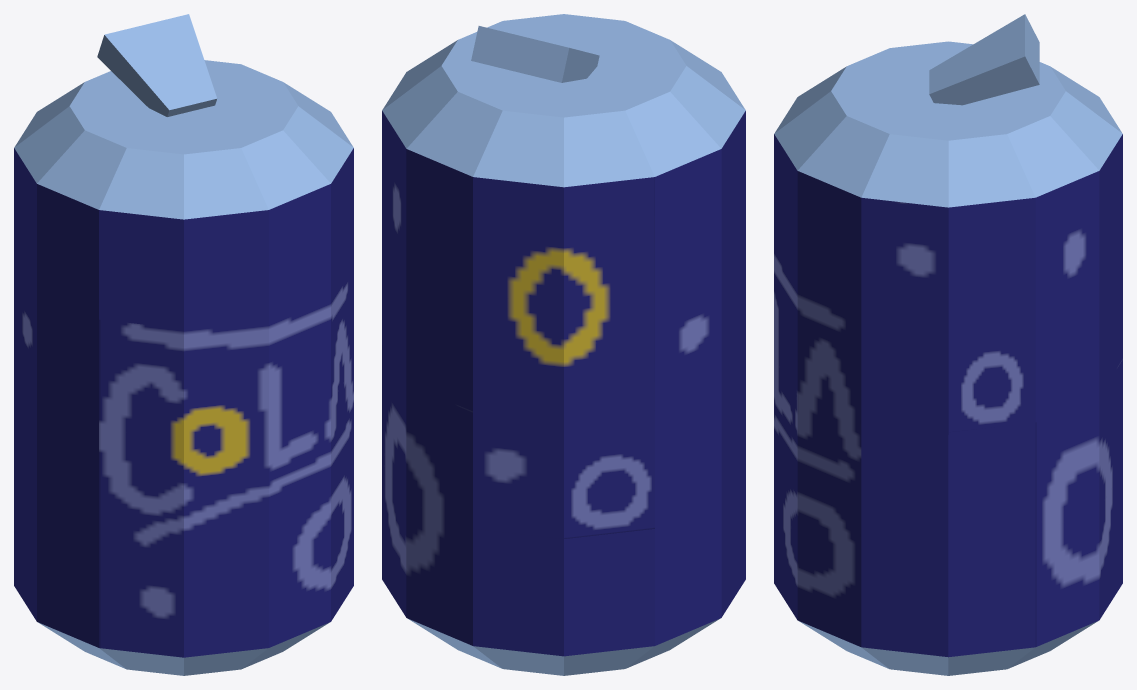
The model's file is Soda.fbx.
3 renders of one model, left to right at view 1: azimuth 30°, elevation 25°; view 2: azimuth 150°, elevation 25°; view 3: azimuth 270°, elevation 25°, orthographic. The views are drawn at different scales.
Visible parts, largest first — view 1: Soda; view 2: Soda; view 3: Soda.
Boxes of the visible parts, x1,y1,x2,y2 form: Soda: (14,14,353,675); Soda: (382,14,745,675); Soda: (774,14,1122,675).
Size of the model in its own units: 295 by 552 by 295.
